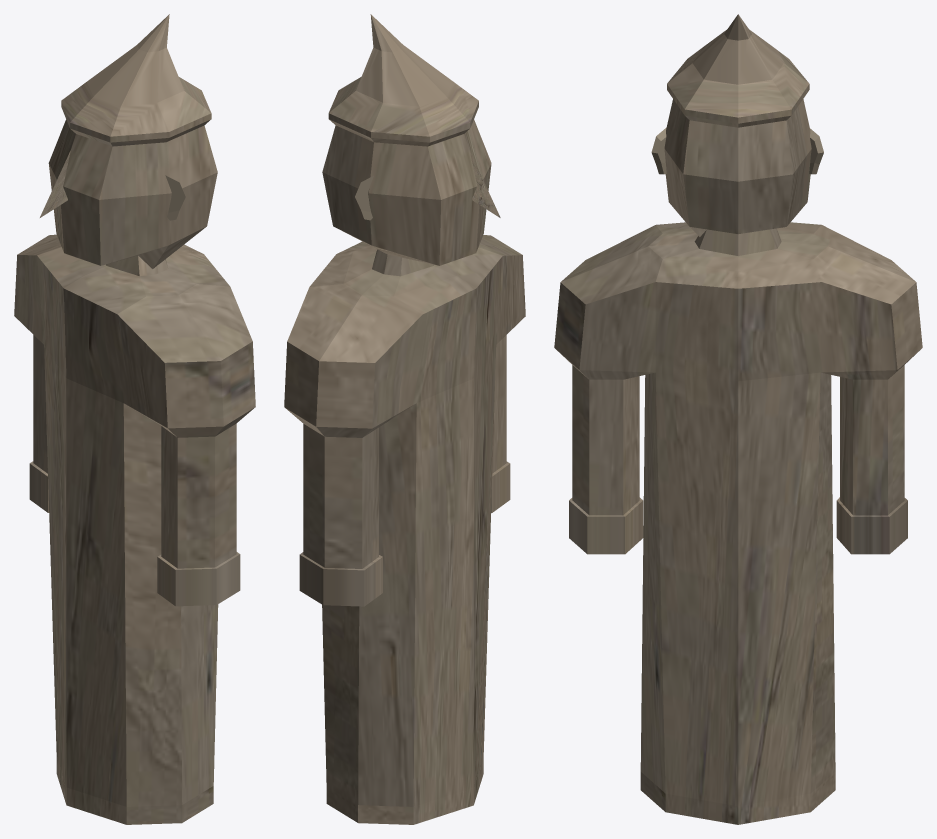
Rendered from Statue5.fbx.
3 views of the same model, side by side, from view 1: azimuth 30°, elevation 25°; view 2: azimuth 150°, elevation 25°; view 3: azimuth 270°, elevation 25° (orthographic). The views are drawn at different scales.
Visible parts, largest first — view 1: Circle, Cube, Circle.001; view 2: Circle, Cube, Circle.001; view 3: Circle, Circle.001.
Part boxes in pixels (x1,y1,x2,y2): Circle: [14, 14, 255, 824]; Cube: [40, 151, 70, 217]; Circle.001: [165, 175, 185, 220]; Circle: [284, 14, 525, 824]; Cube: [469, 151, 500, 217]; Circle.001: [355, 176, 373, 220]; Circle: [554, 14, 922, 824]; Circle.001: [651, 127, 823, 174].
Bounding box in the file's own units: 48.21 × 212 × 89.1.
